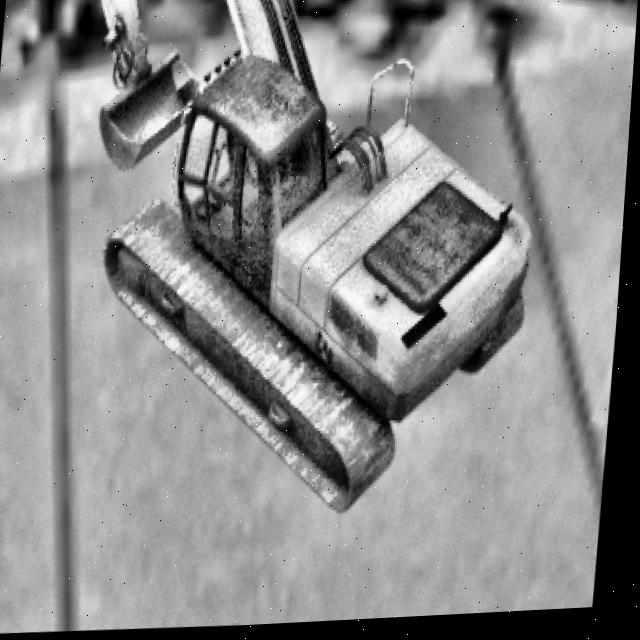excavator: (0, 0, 549, 531)
